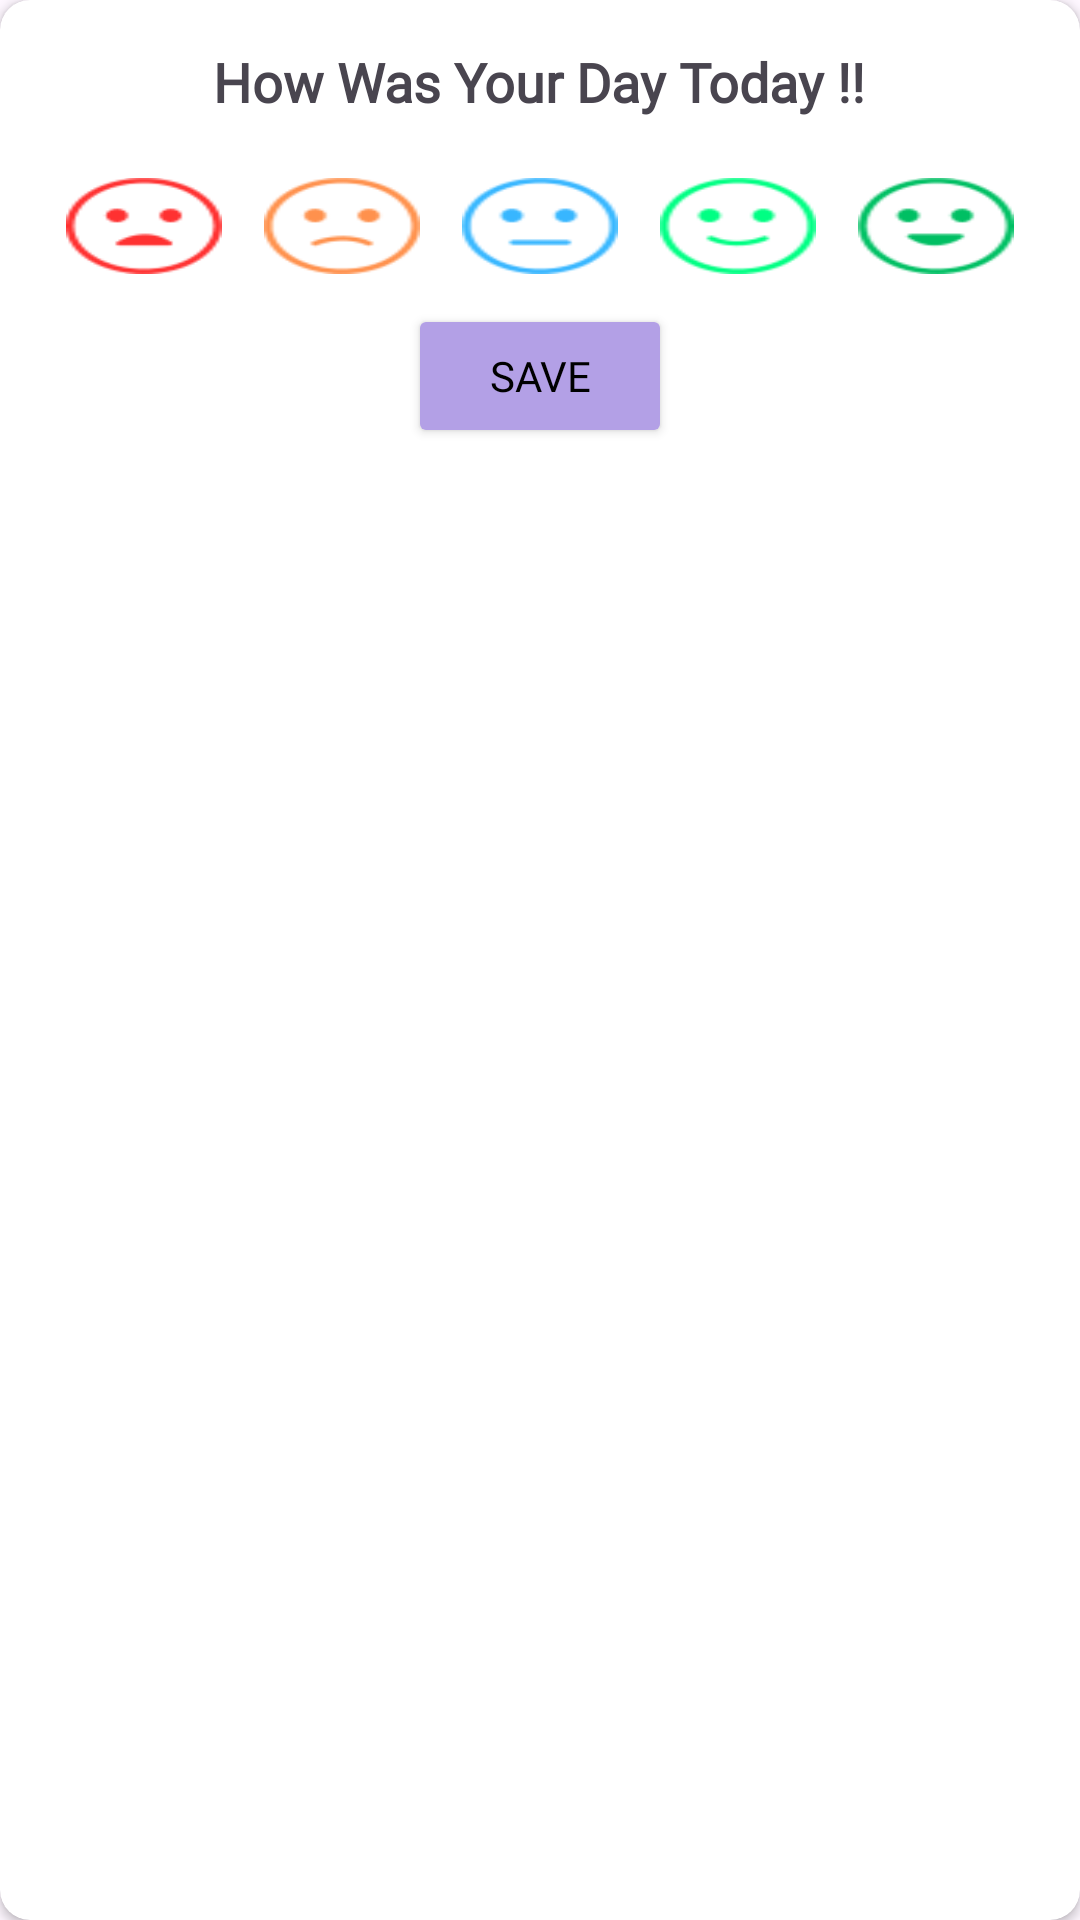

Where icons sit on this 1080 × 1920 app screen, as (x1, y1, x2, y2):
happy: (660, 178, 816, 274)
neutral: (462, 178, 618, 274)
sad: (264, 178, 420, 274)
very happy: (858, 178, 1014, 274)
very sad: (66, 178, 222, 274)
